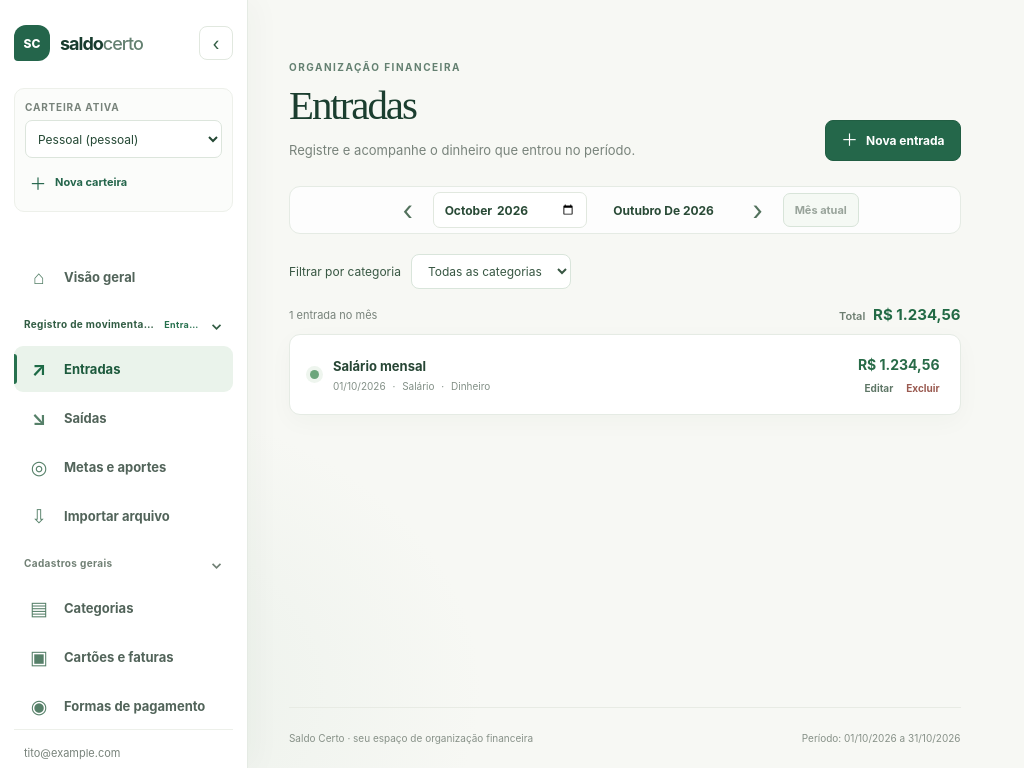
Test: IncomesPage currency input › lets the user classify an income as a benefit and shows that destination in the list
Expected: the dropdown labelled "Carteira ativa" is shown, [25,120,222,158]
Step 1. Click the button "＋ Nova entrada" → (893, 141), box [825,120,960,161]
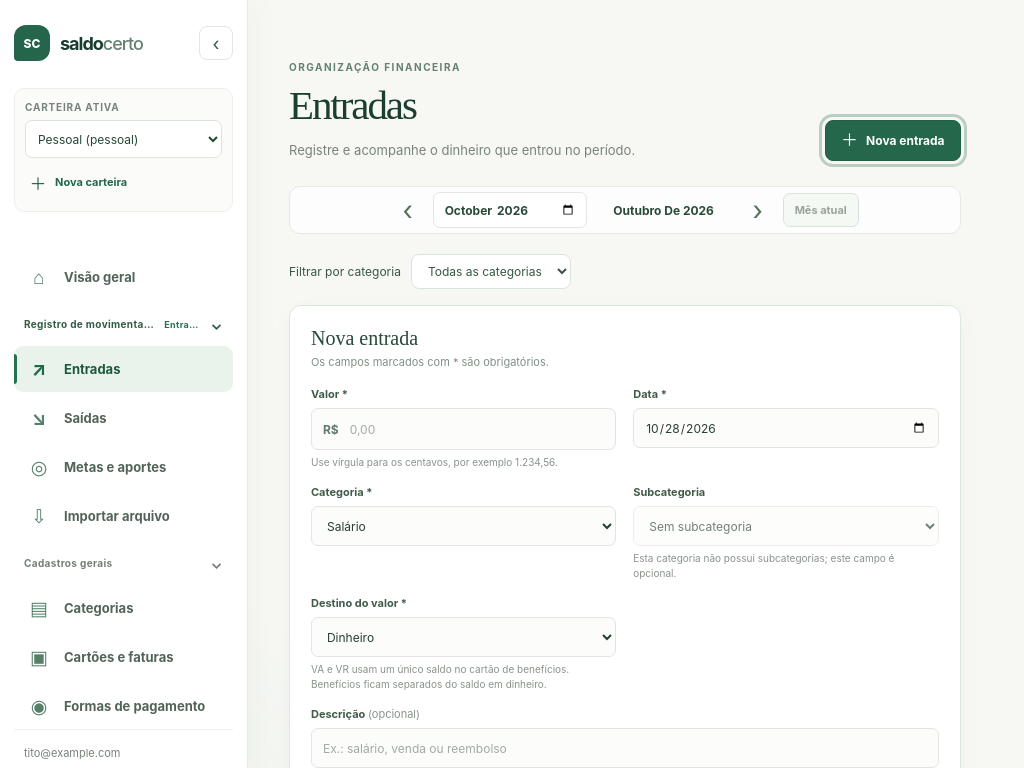
Step 2. Select "Cartão de benefícios (VA/VR)" in the dropdown labelled "Destino do valor *" → (464, 637), box [311,617,616,657]
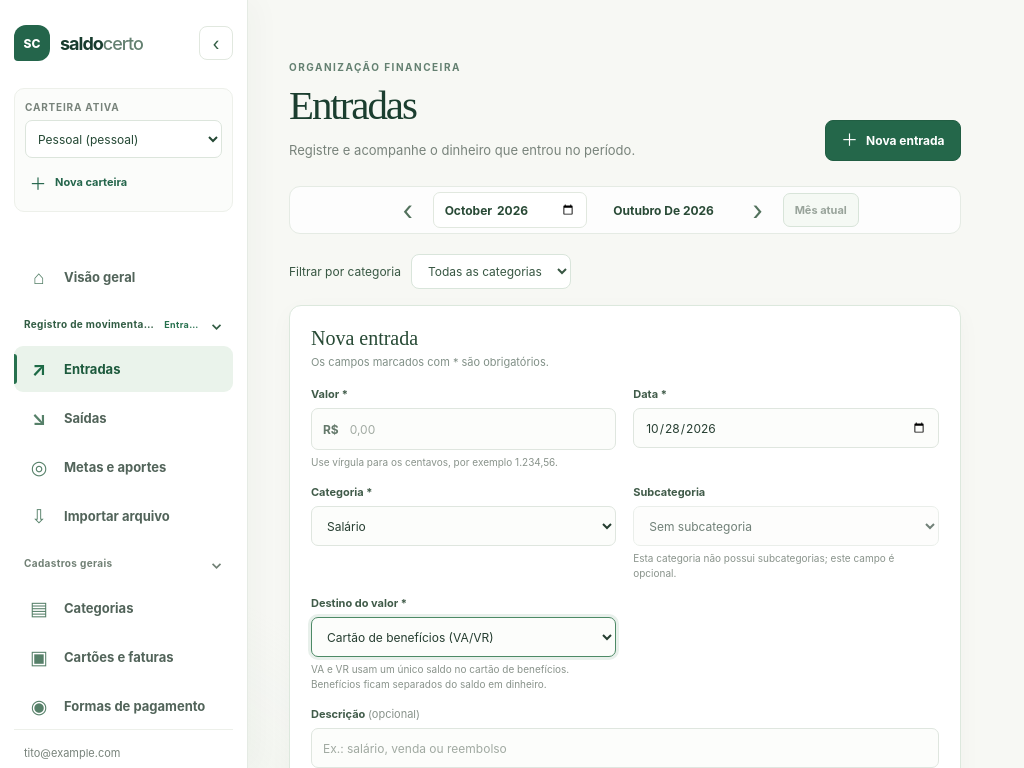
Step 3. Type "500,00" into the field labelled "Valor *" → (477, 429), box [339,409,615,449]
(page scrolled)
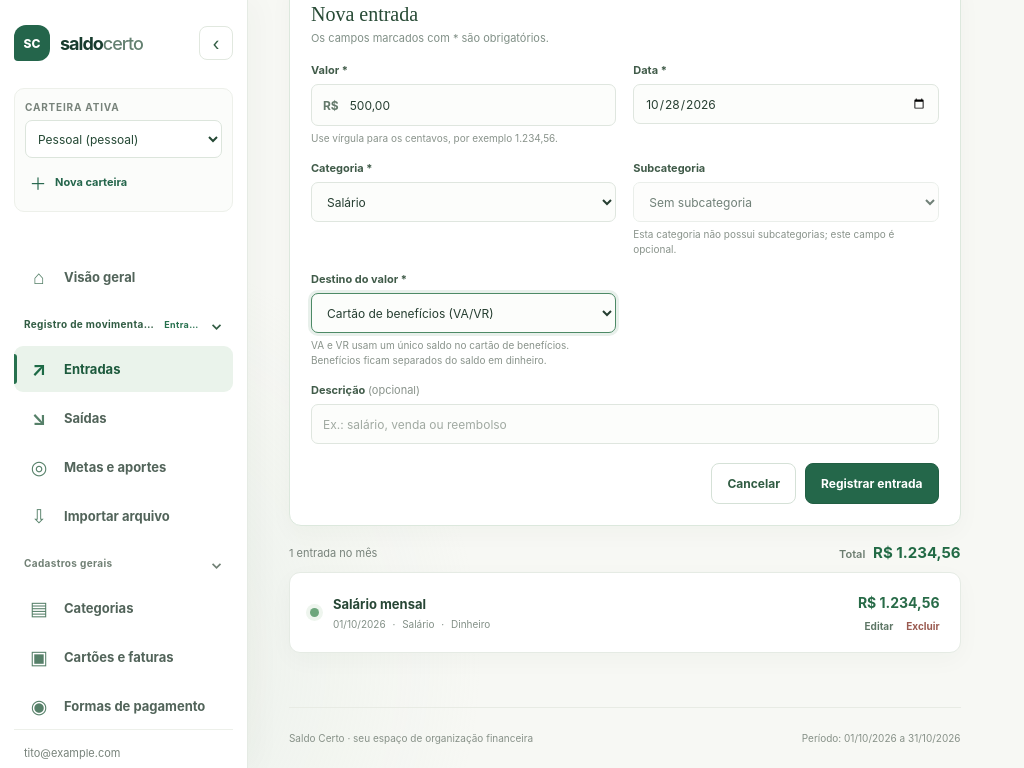
Step 4. Click the button "Registrar entrada" → (872, 484), box [805,463,938,504]
(page scrolled)
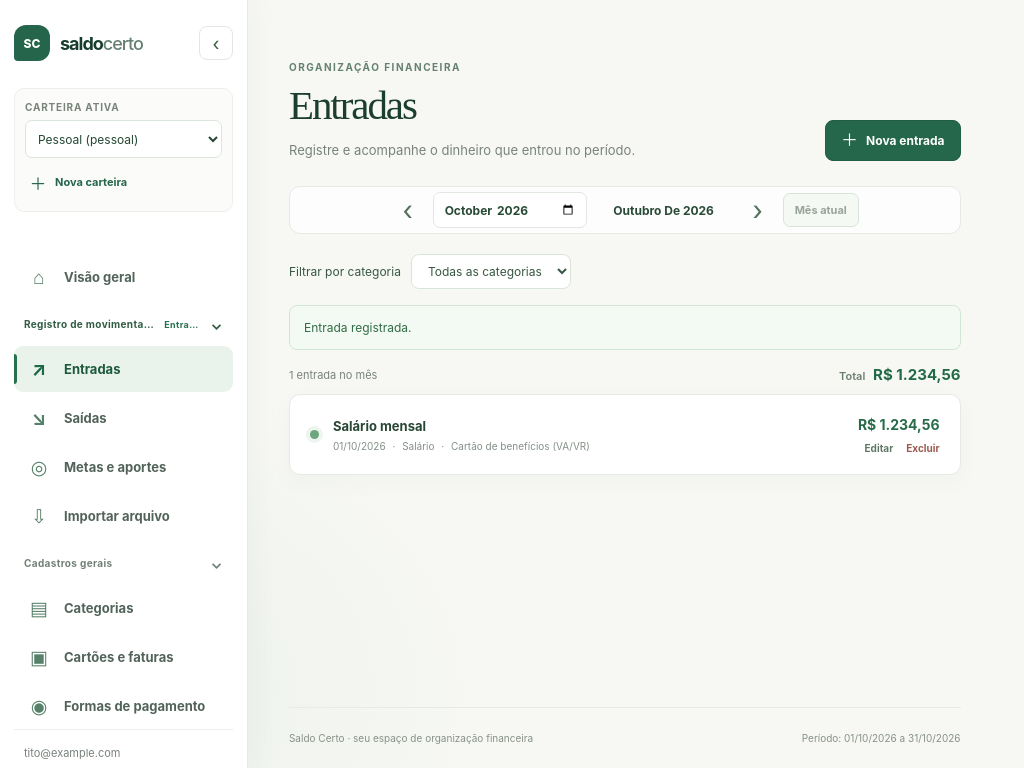
Now the text "01/10/2026 · Salário · Cartão de benefícios (VA/VR)" is shown, box [333,440,590,452]
